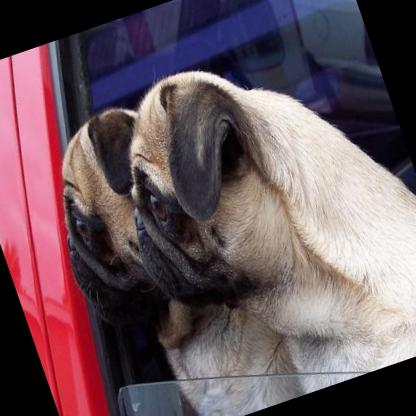pug: (84, 13, 416, 416), (24, 78, 301, 416)
